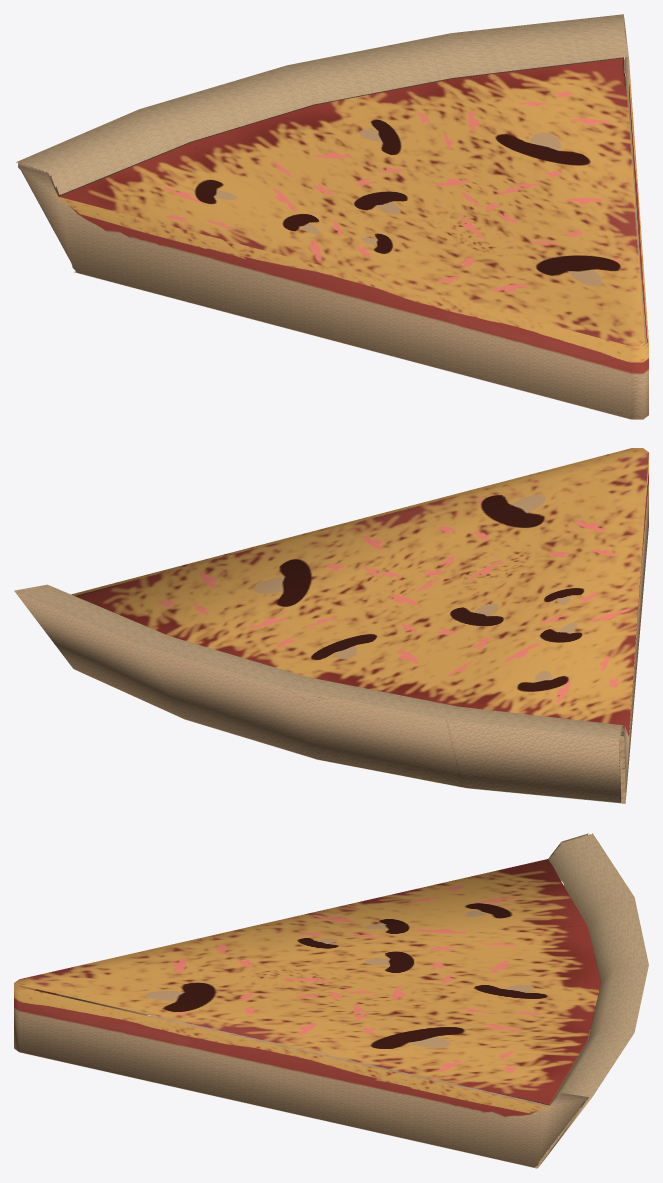
Rendered from WorldItem_PizzaHamMushroomSlice.fbx.
3 views of the same model, one above another, from view 1: azimuth 30°, elevation 25°; view 2: azimuth 150°, elevation 25°; view 3: azimuth 270°, elevation 25° (orthographic). The views are drawn at different scales.
Visible parts, largest first — view 1: Pie_Lemonmeringue001; view 2: Pie_Lemonmeringue001; view 3: Pie_Lemonmeringue001.
Part boxes in pixels (left/top/right/bottom): Pie_Lemonmeringue001: left=16, top=14, right=648, bottom=419; Pie_Lemonmeringue001: left=14, top=448, right=648, bottom=803; Pie_Lemonmeringue001: left=14, top=833, right=648, bottom=1168.
Size of the model in its own units: 22.09 by 3.25 by 22.34.
